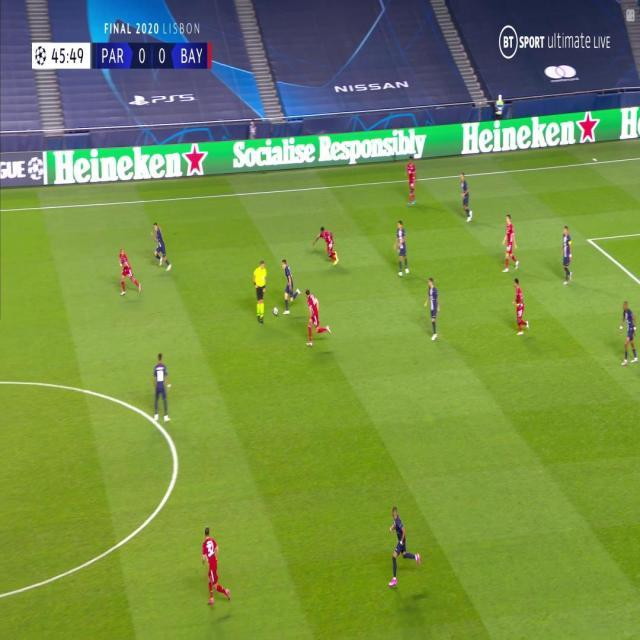ball: (271, 303, 281, 322)
player: (388, 505, 421, 594), (199, 527, 233, 604), (615, 298, 640, 367), (304, 289, 332, 347), (152, 354, 173, 429), (511, 277, 531, 339), (281, 259, 303, 315), (119, 248, 142, 300), (311, 226, 339, 267), (150, 224, 173, 272), (424, 279, 440, 343), (501, 215, 518, 273), (402, 156, 419, 208), (560, 226, 573, 288), (396, 220, 409, 280), (460, 173, 473, 223)
referee: (252, 260, 268, 327)
